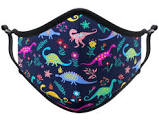cloth_mask: (1, 8, 159, 115)
